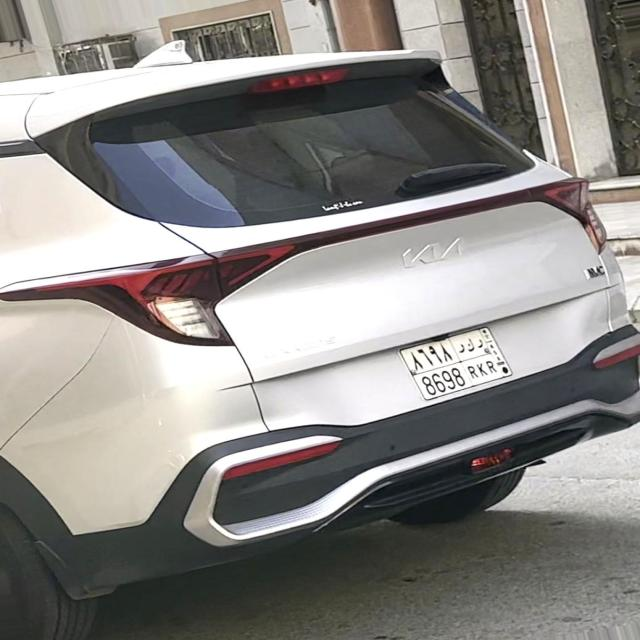Car-plate: (388, 313, 535, 411)
